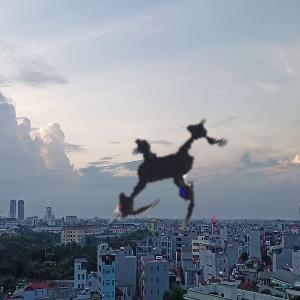drone: (45, 49, 290, 294)
